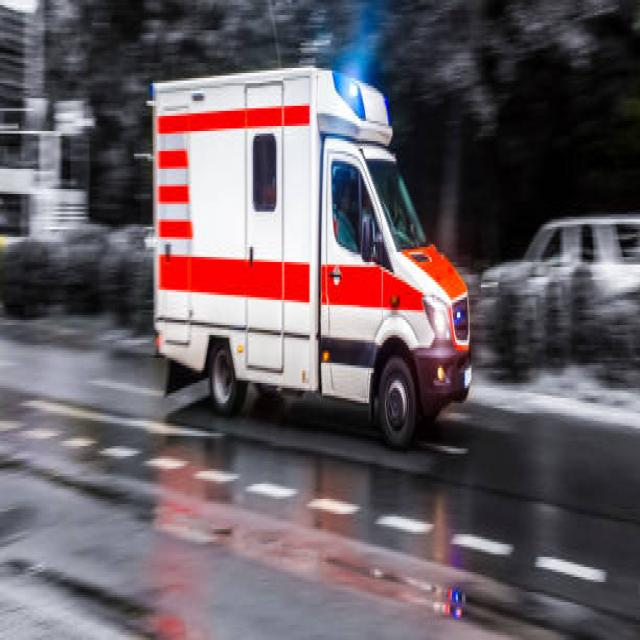emergency: (151, 69, 472, 446)
